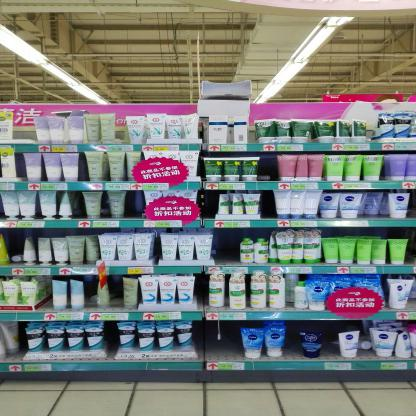Void: (199, 323, 237, 358), (219, 230, 239, 264), (287, 322, 300, 358), (82, 280, 98, 306), (6, 230, 22, 254), (262, 157, 276, 180), (199, 194, 213, 217), (328, 323, 337, 355), (262, 194, 273, 218), (112, 280, 121, 307), (364, 214, 385, 219)
